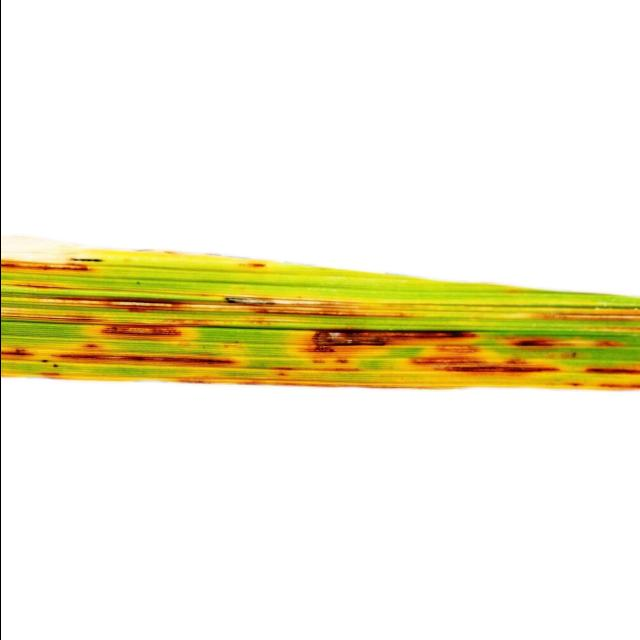Narrow brown: (0, 224, 640, 493)
